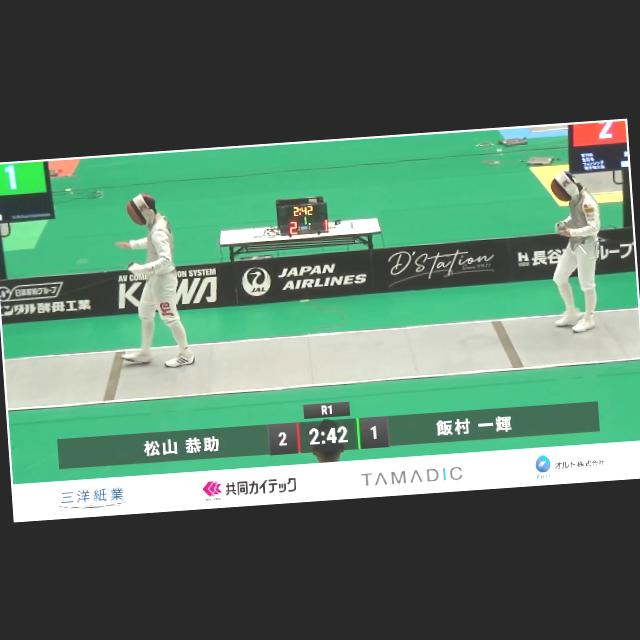blade: (72, 250, 141, 279), (556, 218, 594, 268)
